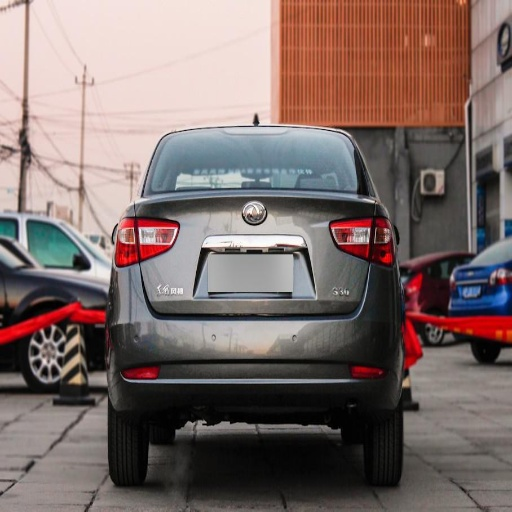back_bumper: (88, 263, 423, 423)
tailgate: (137, 182, 374, 319)
trunk: (130, 214, 189, 291), (186, 336, 293, 356)
